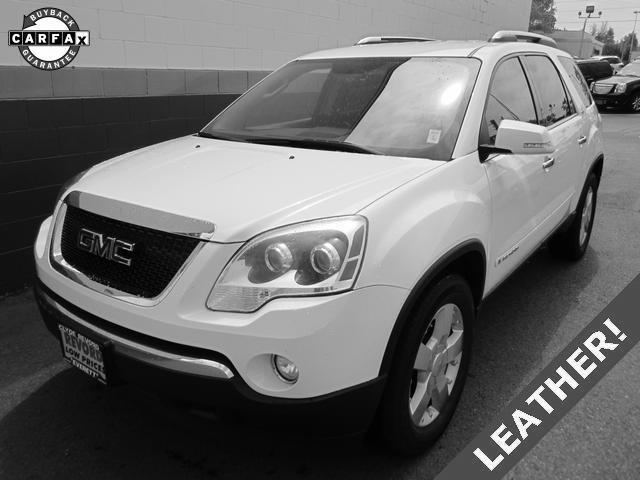car: (30, 31, 611, 447)
